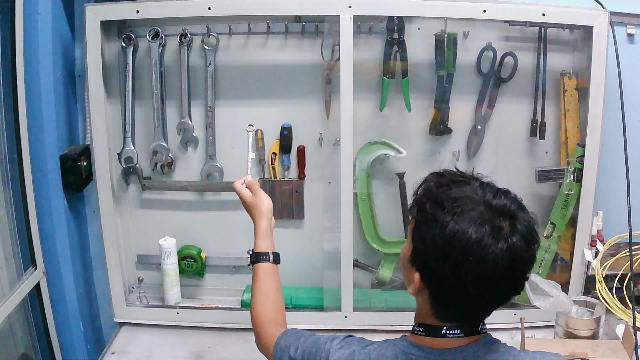kunci_pass_13: (232, 24, 277, 234)
